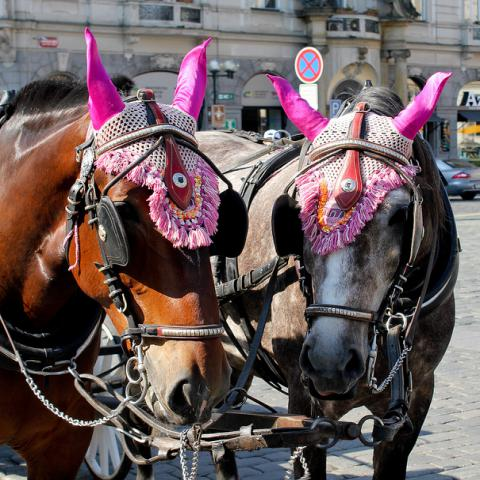car: (436, 158, 480, 201)
